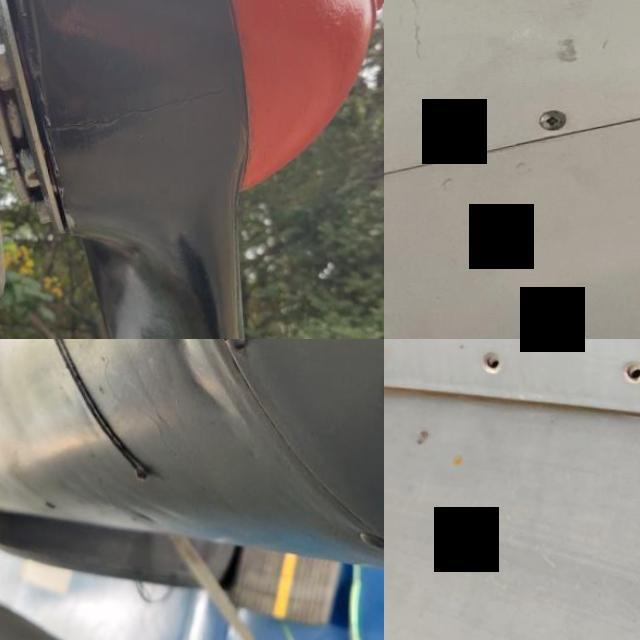Crack: (34, 68, 245, 178)
Dent: (142, 339, 234, 444)
Missing_Fastener: (459, 339, 516, 394), (601, 344, 640, 407), (384, 339, 396, 384)
